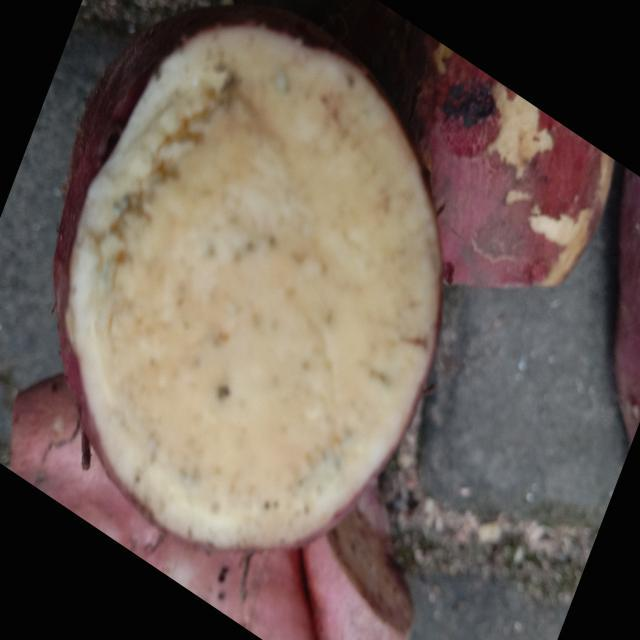Healthy Sweet Potato: (54, 7, 441, 548)
